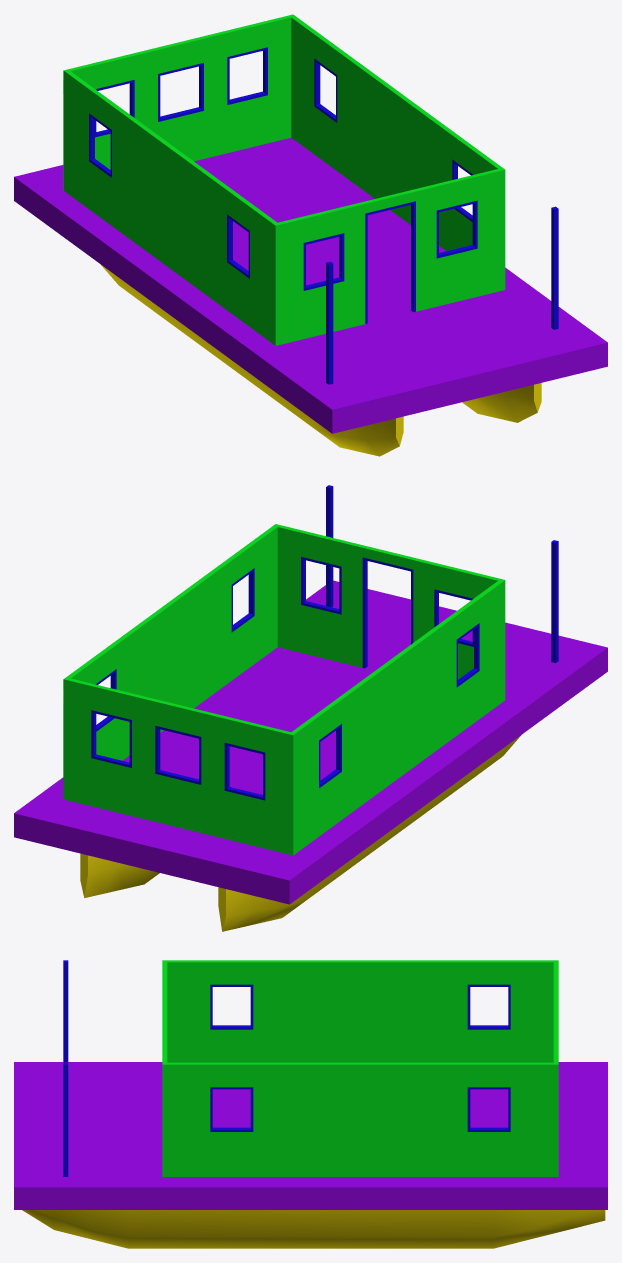
File: houseBoat.fbx
3 renders of one model, top to bottom at view 1: azimuth 30°, elevation 25°; view 2: azimuth 150°, elevation 25°; view 3: azimuth 270°, elevation 25°, orthographic. The views are drawn at different scales.
Parts seen in each view (by area): view 1: HouseBoat; view 2: HouseBoat; view 3: HouseBoat.
Part boxes in pixels (x1,y1,x2,y2): HouseBoat: [14, 14, 607, 456]; HouseBoat: [14, 485, 607, 931]; HouseBoat: [14, 960, 607, 1248].
Bounding box in the file's own units: 600 × 457 × 1200.
